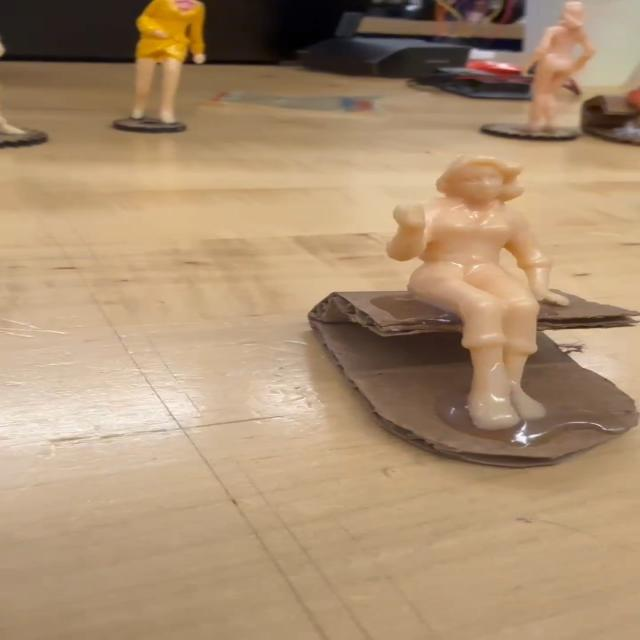Unauthorized: (378, 140, 585, 426)
